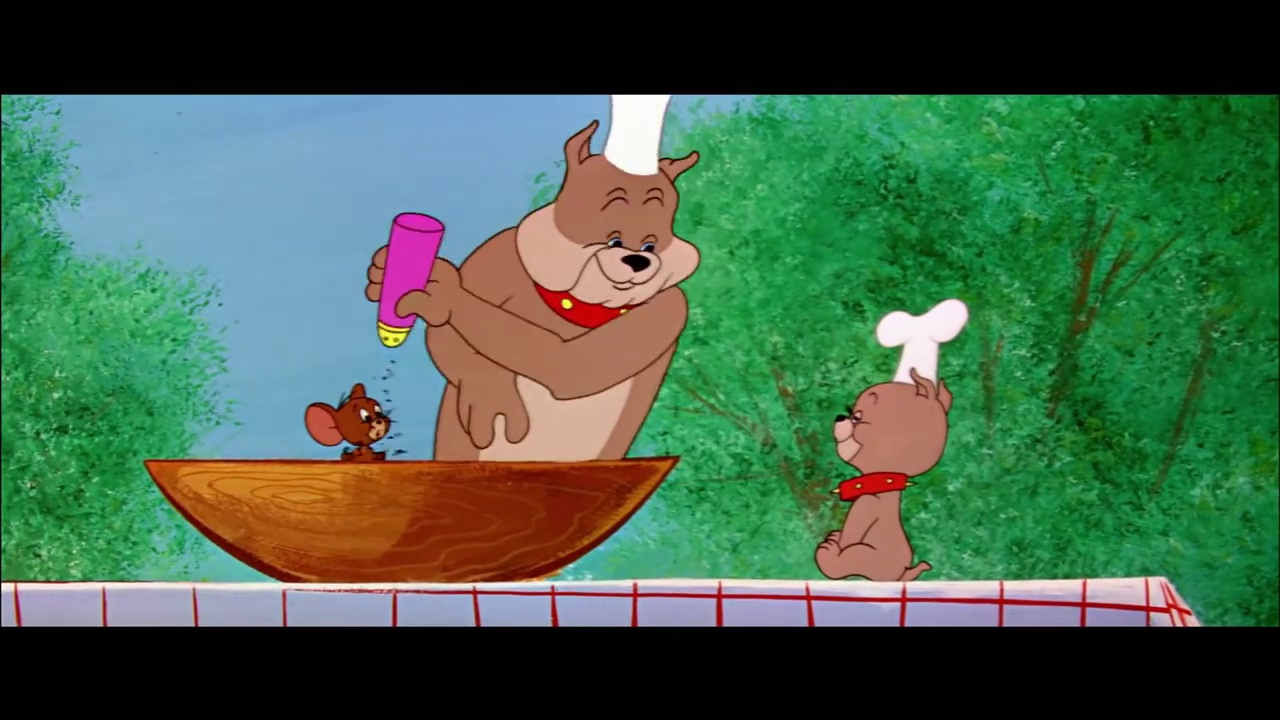spike: (516, 117, 709, 335)
